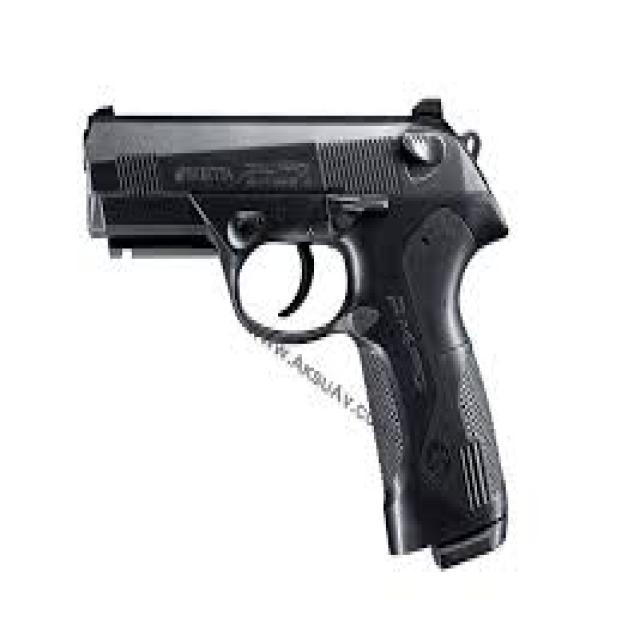pistol: (74, 93, 519, 581)
